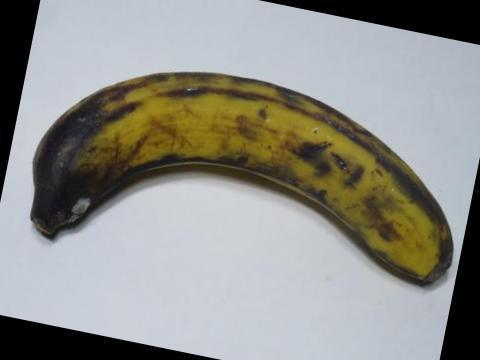overripe: (17, 58, 463, 307)
rotten: (20, 94, 132, 240)
